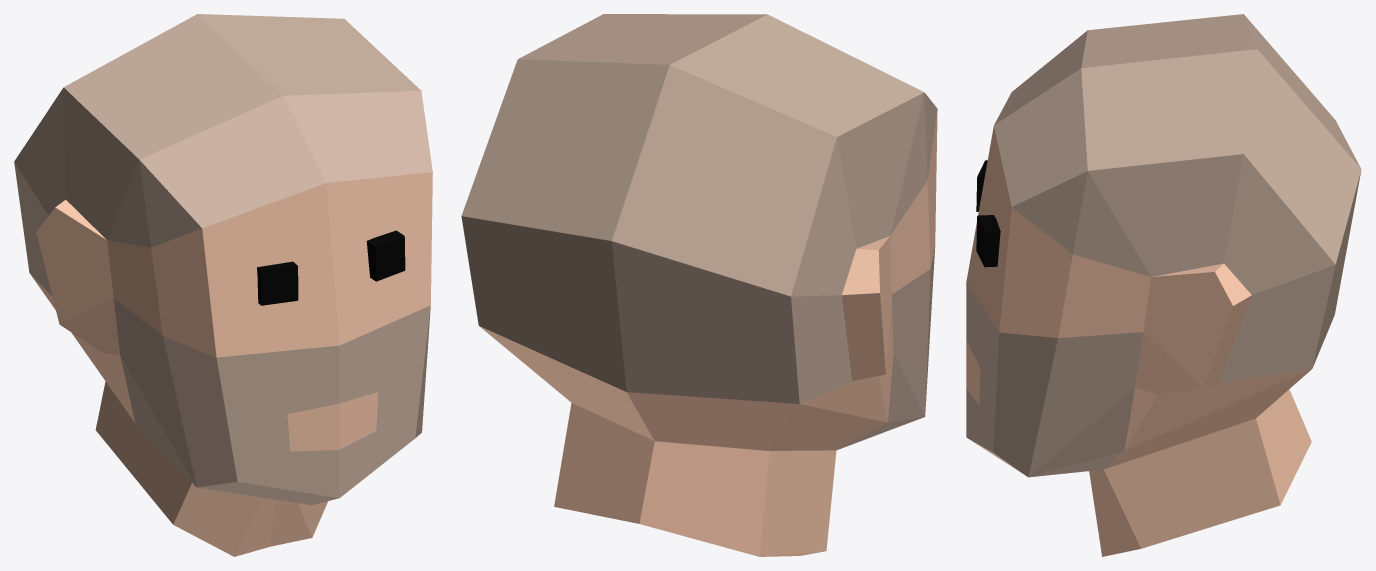
Rendered from Chr_Head_Male_00_Static.fbx.
3 renders of one model, left to right at view 1: azimuth 30°, elevation 25°; view 2: azimuth 150°, elevation 25°; view 3: azimuth 270°, elevation 25°, orthographic. The views are drawn at different scales.
Parts seen in each view (by area): view 1: Chr_Head_Male_00_Static; view 2: Chr_Head_Male_00_Static; view 3: Chr_Head_Male_00_Static.
Part boxes in pixels (left/top/right/bottom): Chr_Head_Male_00_Static: left=14, top=14, right=432, bottom=556; Chr_Head_Male_00_Static: left=461, top=14, right=937, bottom=556; Chr_Head_Male_00_Static: left=966, top=14, right=1361, bottom=556.
Bounding box in the file's own units: 0.2661 × 0.3523 × 0.2574.
